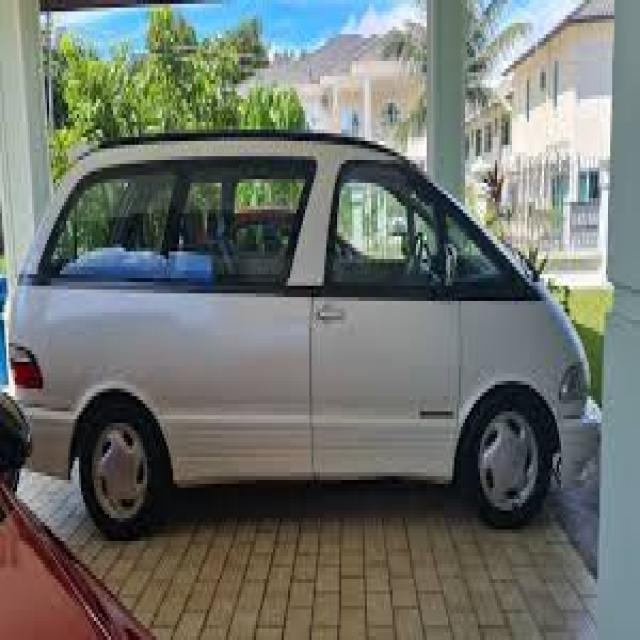Van: (13, 133, 578, 545)
